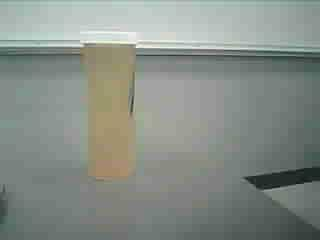Bottle A: (76, 26, 142, 192)
